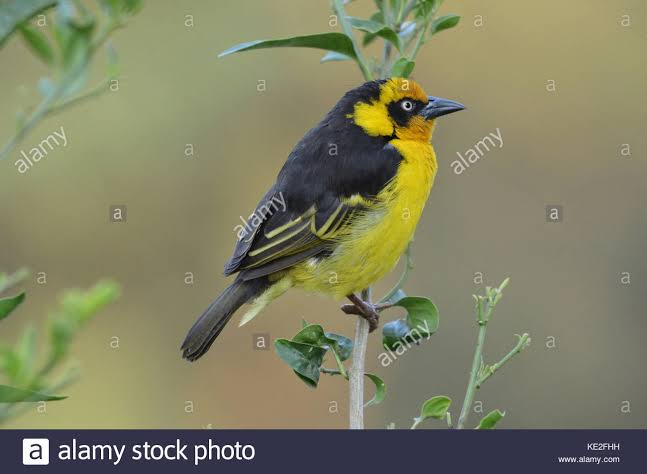target: (180, 78, 482, 373)
